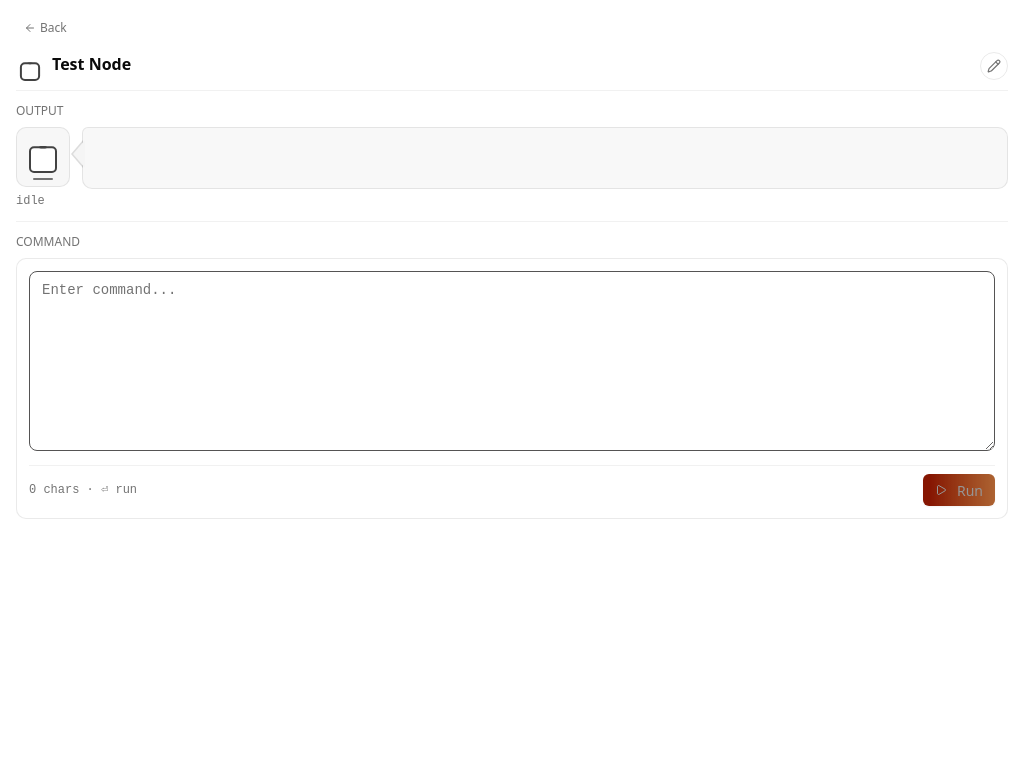
Test: NodeDetailPanel — chat layout › rename button starts title editing
This screenshot has width=1024, height=768.
Click the button with test id "rename-node-button": (994, 66) [980,52,1008,80]
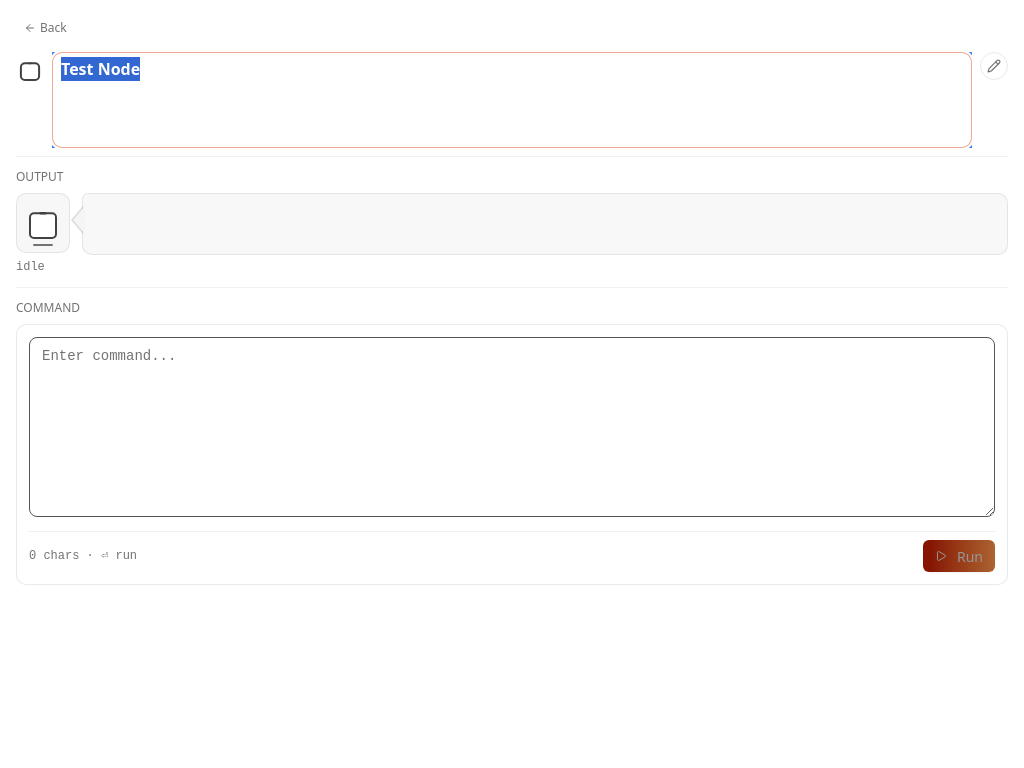
Check: the text box showing "Test Node" is shown, box [52,52,972,148]
